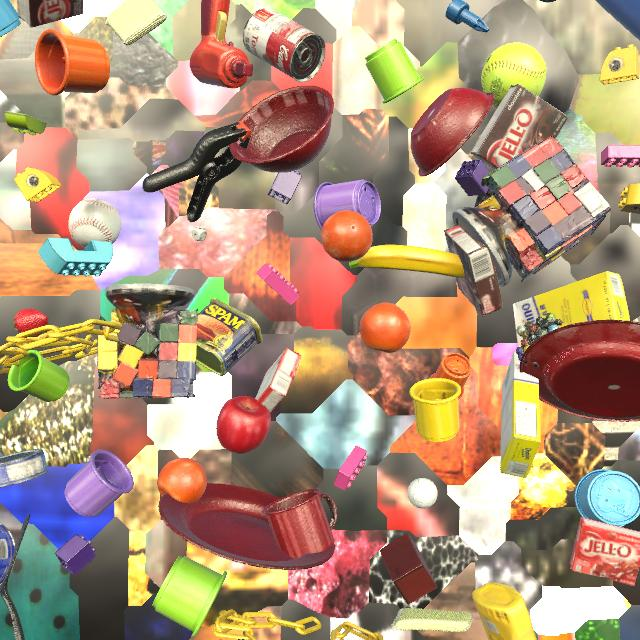ycb_002_master_chef_can: (0, 523, 16, 585)
ycb_004_sugar_box: (513, 271, 630, 347), (500, 351, 541, 478)
ycb_005_tomato_soup_can: (243, 8, 326, 83)
ycb_006_mustard_bottle: (472, 582, 537, 640)
ycb_007_tuna_fish_can: (0, 449, 48, 487)
ycb_008_pudding_box: (470, 84, 568, 169), (444, 225, 503, 316), (17, 0, 83, 28)
ycb_009_gelatin_box: (569, 517, 640, 586), (255, 348, 302, 413)
ycb_010_potted_meat_can: (194, 298, 263, 376)
ycb_011_banana: (349, 245, 464, 278)
ycb_012_strawberry: (13, 308, 49, 337)
ycb_013_apple: (216, 396, 271, 454)
ycb_017_orange: (321, 210, 373, 262), (360, 302, 411, 353), (157, 458, 207, 503)
